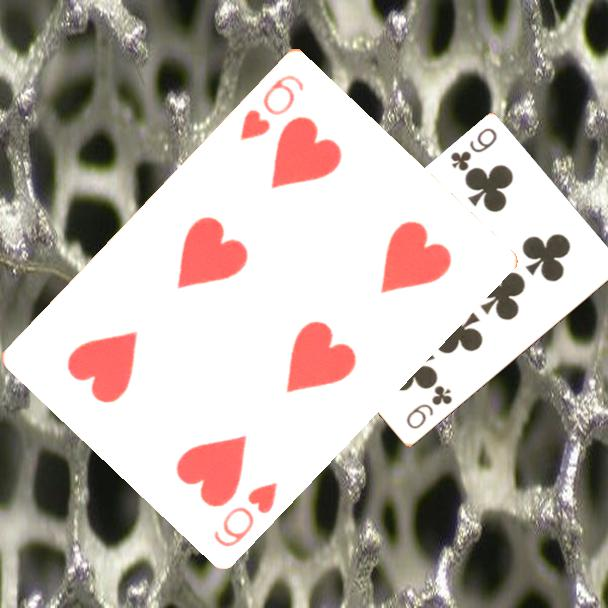c09: (402, 382, 455, 433), (447, 125, 500, 175)
h06: (235, 70, 307, 143), (209, 478, 281, 550)
